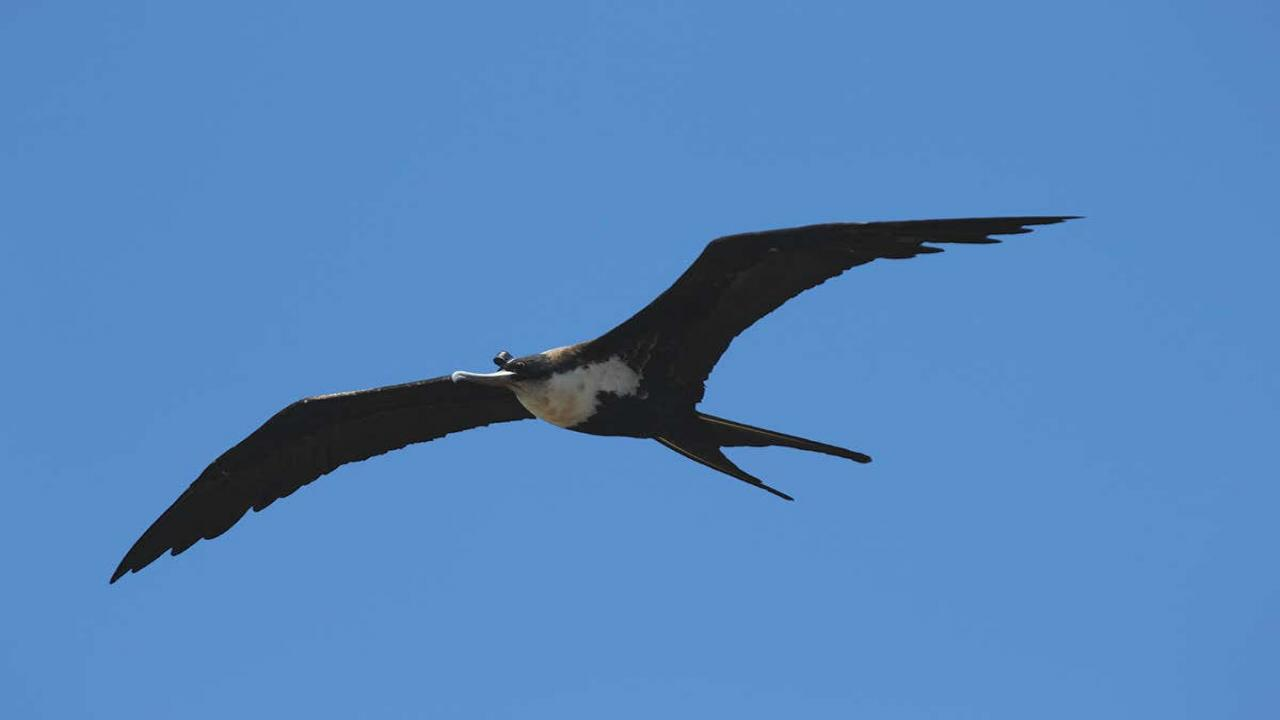Bird: (89, 206, 1102, 589)
